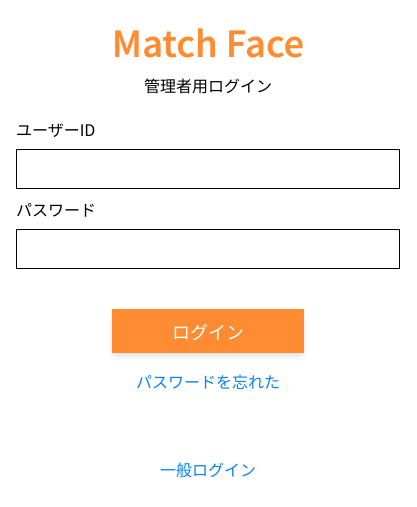
Test: 初めてOrangeButtonがクリックされた時 › ユーザーIDが全角数字のみで入力されている時 › パスワードが入力されている場合、"※半角数字で入力してください。"が表示されること
The image size is (417, 507).
Type "１１１１" into the field labelled "ユーザーID" at (208, 169), box [16, 149, 400, 189]
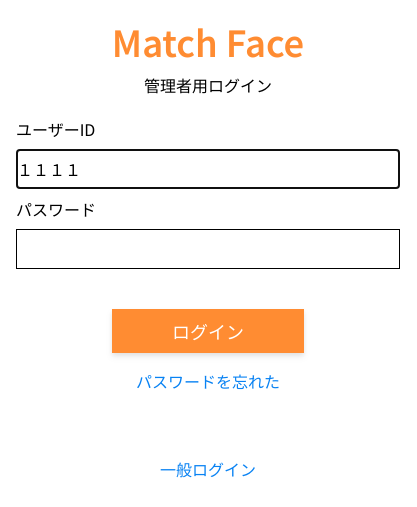
Type "incorrectPass#1" into the password field labelled "パスワード" at (208, 249), box [16, 229, 400, 269]
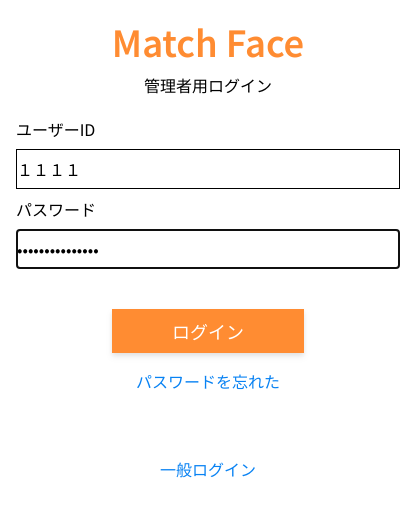
Click the button "ログイン" at (208, 331), box [112, 309, 304, 353]
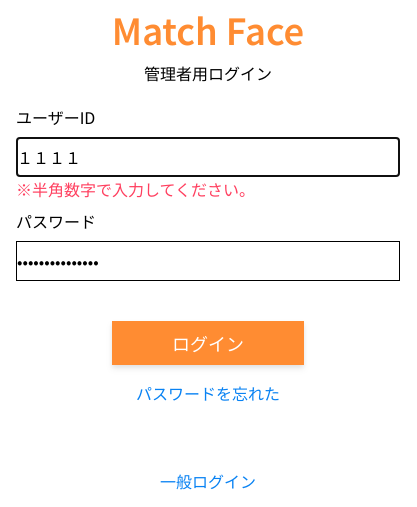
Expected: the text "※半角数字で入力してください。" is shown, [16, 177, 255, 201]
